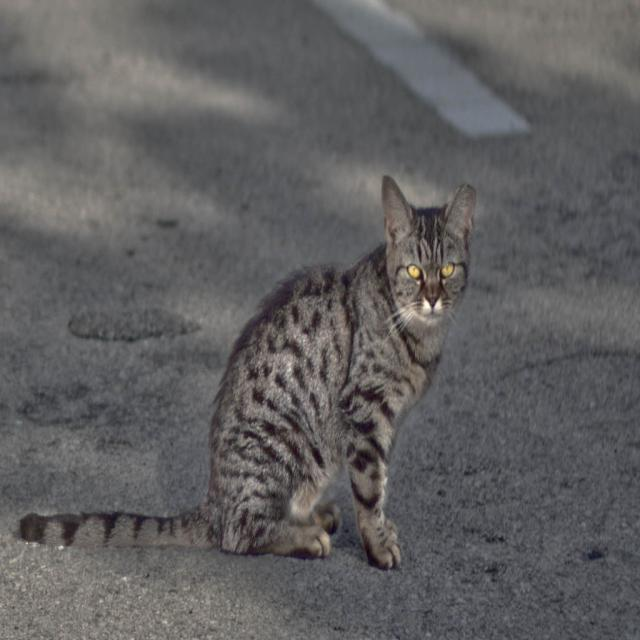Cat: (19, 174, 476, 569)
